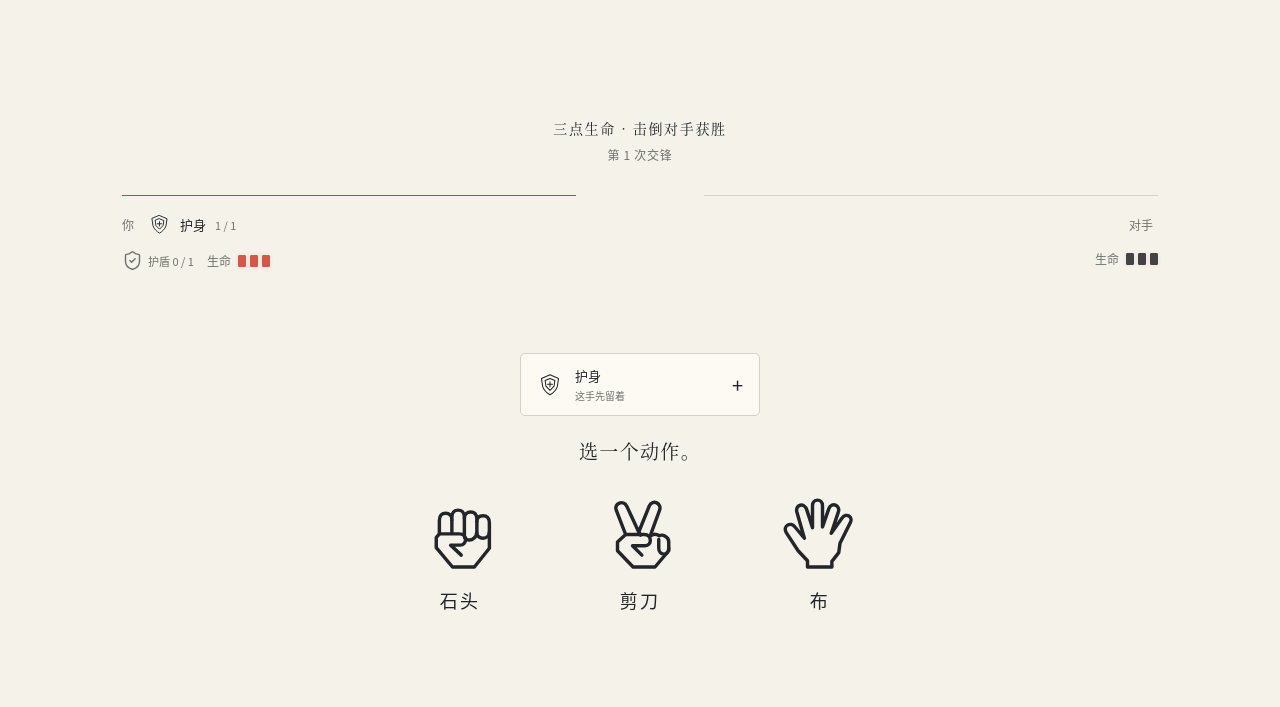
Scenario: new public controls remain within their declared information and resource budgets › keeps a newly granted shield concealed in the HUD until the shared reveal deadline
Check: the element labelled "护盾 0 / 1" is shown, box [122, 250, 194, 271]
Click the button "护身 这手先留着 +" at (640, 384), box [520, 353, 760, 416]
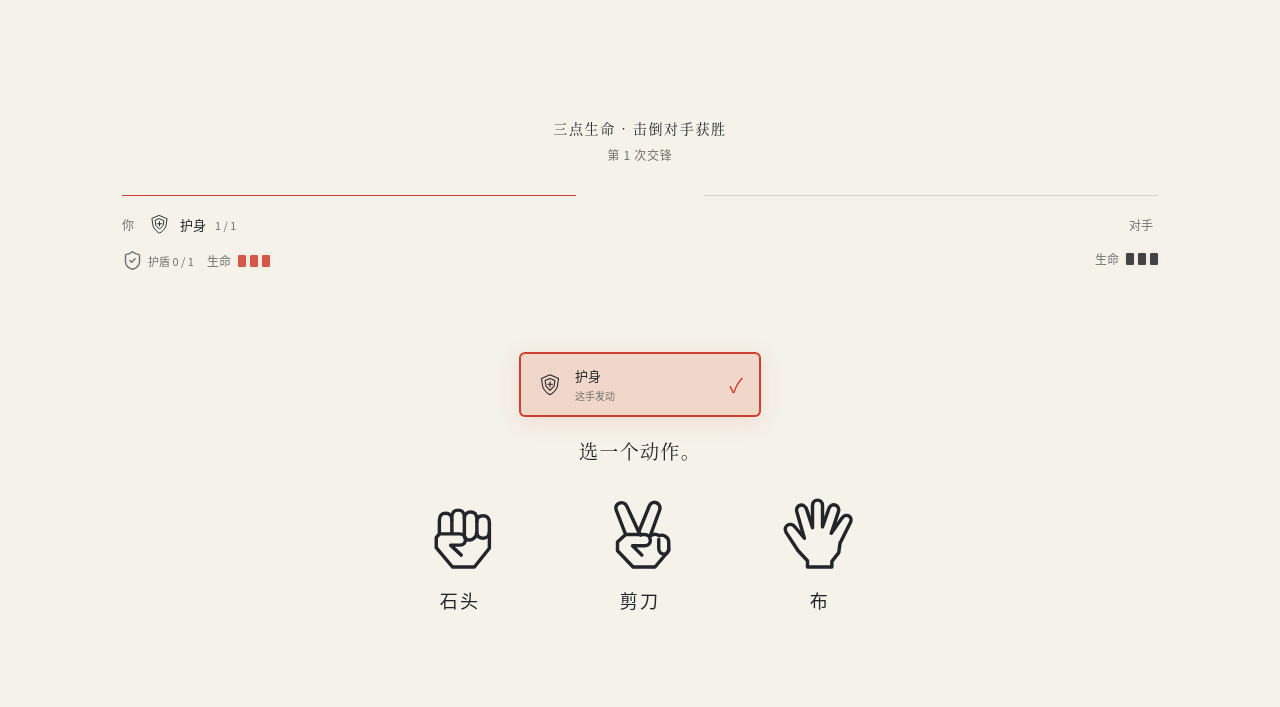
Click the button with aria-label "出石头" at (460, 554), box [402, 486, 518, 623]
Wait 900 ms
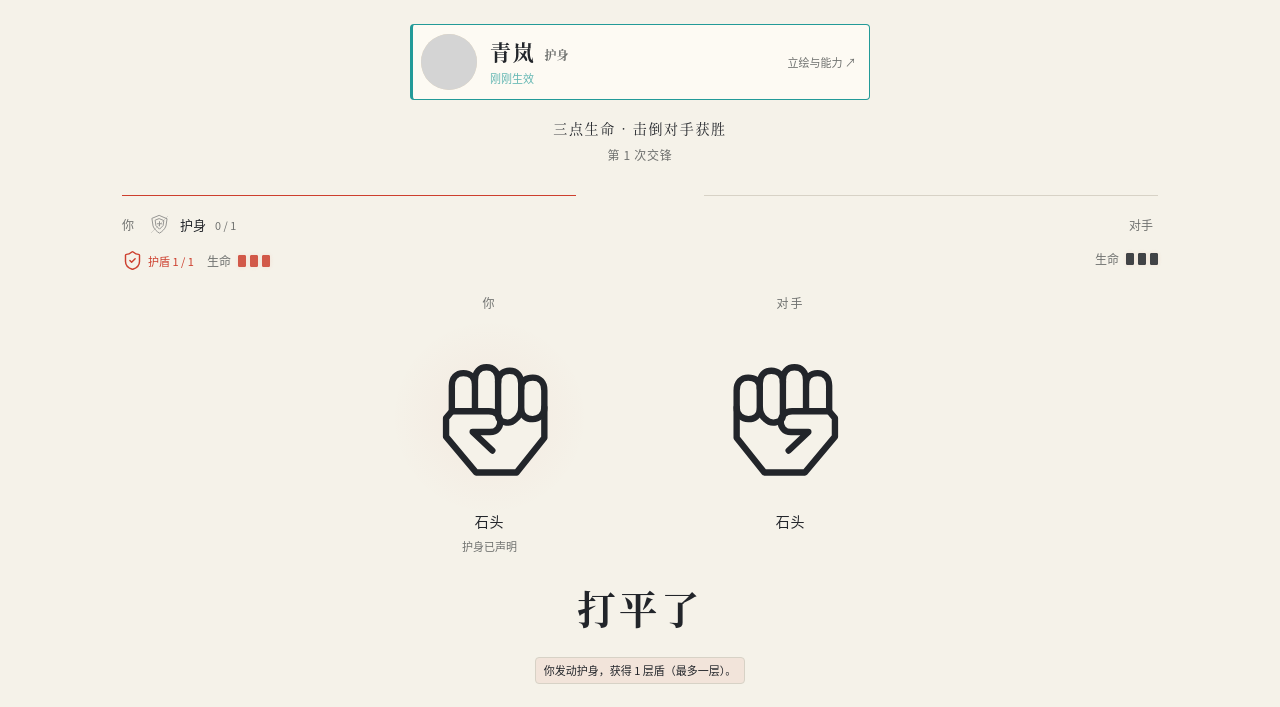
Check: the element labelled "护盾 1 / 1" is shown, box [122, 250, 194, 271]
Check: the element with class "mechanic-outcomes" shows "护身", box [535, 657, 745, 684]
